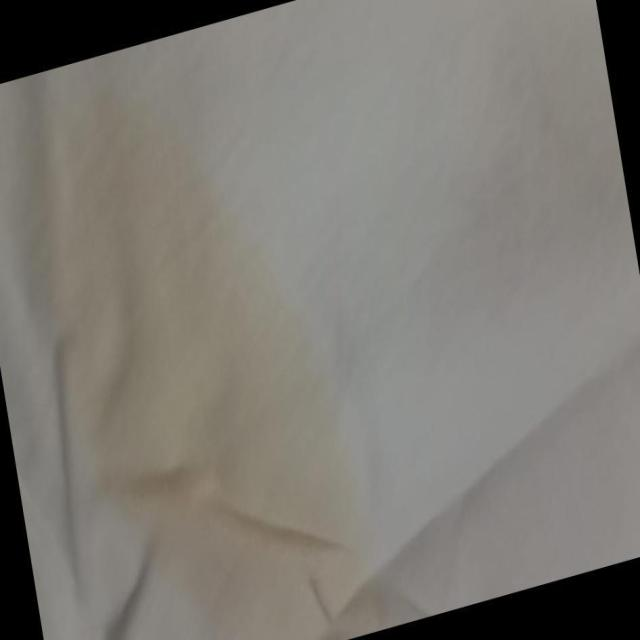stain: (12, 46, 371, 640)
